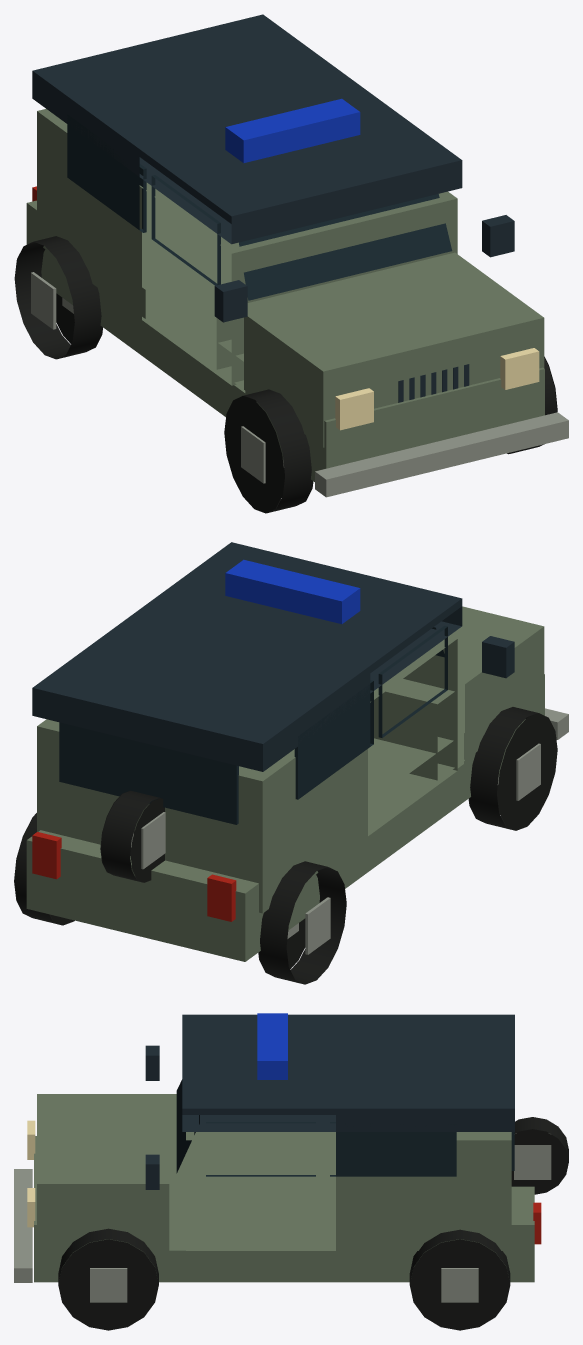
Rendered from bobik-body.glb.
3 views of the same model, one above another, from view 1: azimuth 30°, elevation 25°; view 2: azimuth 150°, elevation 25°; view 3: azimuth 270°, elevation 25° (orthographic). The views are drawn at different scales.
Bounding box in the file's own units: 2.4 × 2.24 × 4.74.
1 material, 1 textured.
